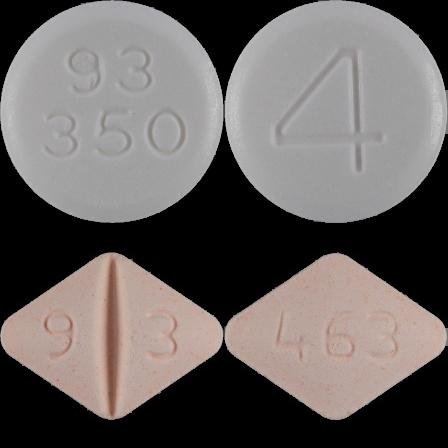0093-0350: (0, 0, 224, 224)
